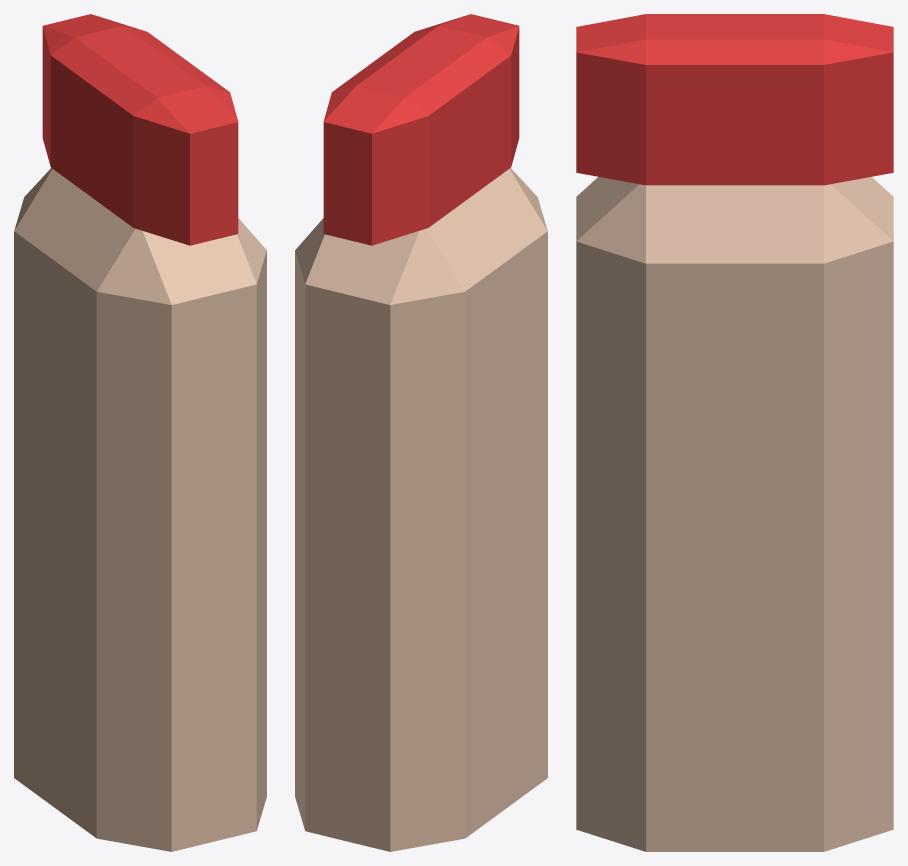
Rendered from GasStationPump.fbx.
3 views of the same model, side by side, from view 1: azimuth 30°, elevation 25°; view 2: azimuth 150°, elevation 25°; view 3: azimuth 270°, elevation 25° (orthographic). The views are drawn at different scales.
Visible parts, largest first — view 1: pCube29; view 2: pCube29; view 3: pCube29.
Boxes of the visible parts, x1=… form: pCube29: x1=14, y1=14, x2=266, y2=851; pCube29: x1=295, y1=14, x2=547, y2=851; pCube29: x1=576, y1=14, x2=893, y2=851.
Size of the model in its own units: 0.0648 by 0.2643 by 0.0974.
